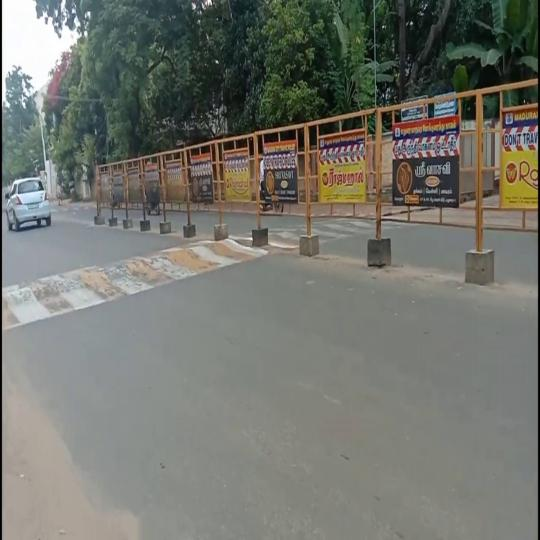Speed Bump: (2, 238, 250, 332), (319, 216, 368, 244), (268, 223, 300, 249)
